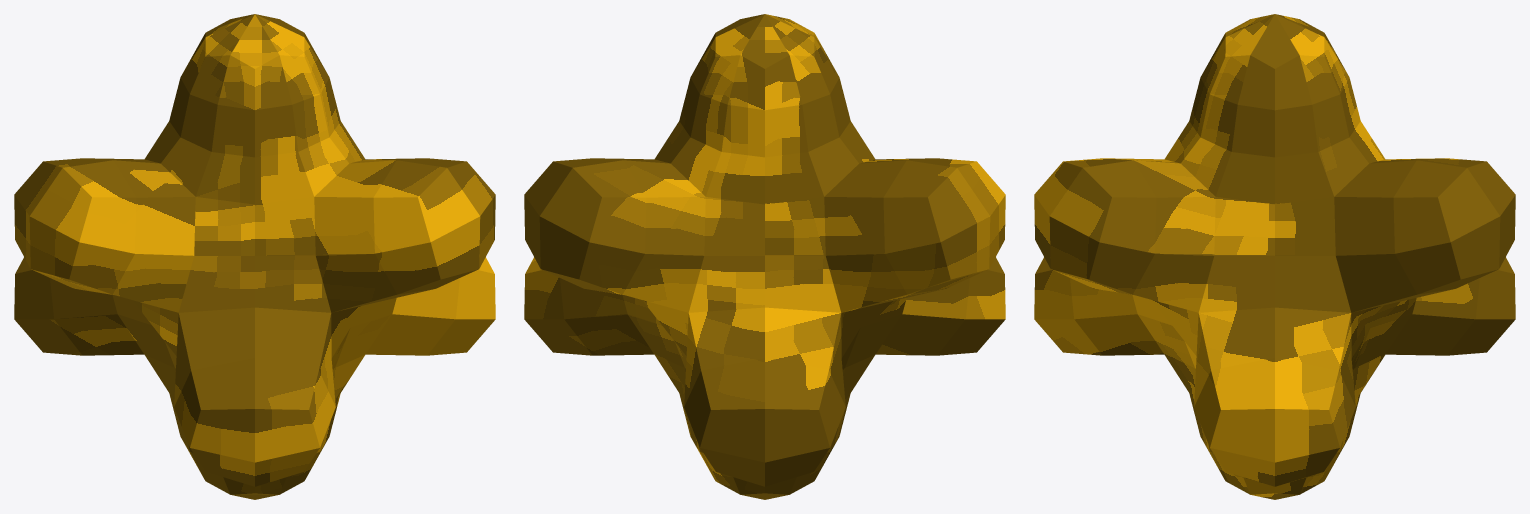
The model's file is Tiro.fbx.
3 renders of one model, left to right at view 1: azimuth 30°, elevation 25°; view 2: azimuth 150°, elevation 25°; view 3: azimuth 270°, elevation 25°, orthographic.
Parts seen in each view (by area): view 1: Sphere; view 2: Sphere; view 3: Sphere.
Part boxes in pixels (x1,y1,x2,y2): Sphere: (14, 14, 495, 499); Sphere: (524, 14, 1005, 499); Sphere: (1034, 14, 1515, 499).
Size of the model in its own units: 374 by 386 by 347.
Materials: 1 (1 with a texture image).
